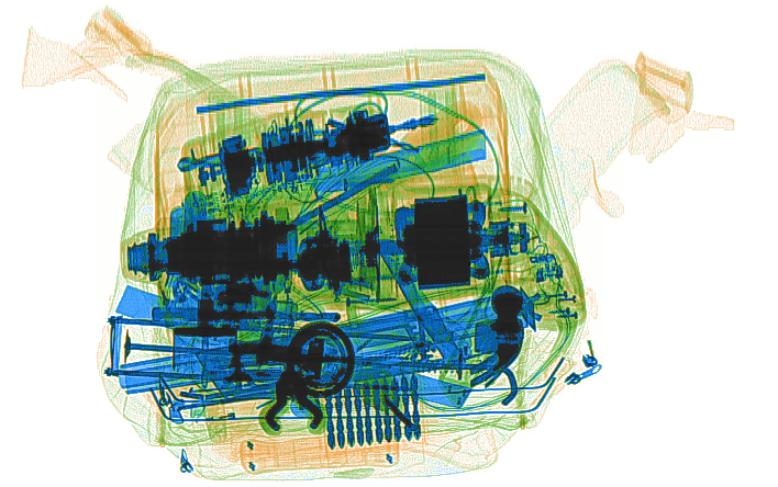battery: (193, 342, 243, 400)
knife: (307, 126, 489, 192)
lighter: (188, 392, 288, 424)
